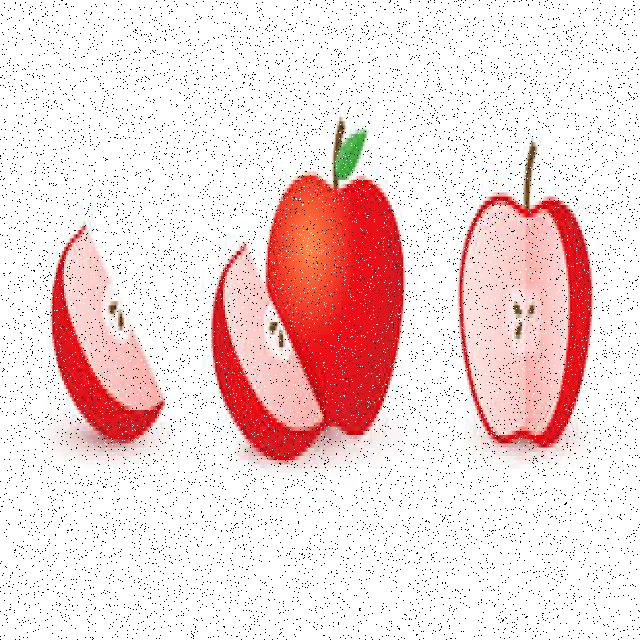Apple: (265, 175, 405, 439), (455, 184, 594, 444), (207, 239, 328, 465), (48, 221, 166, 445)
